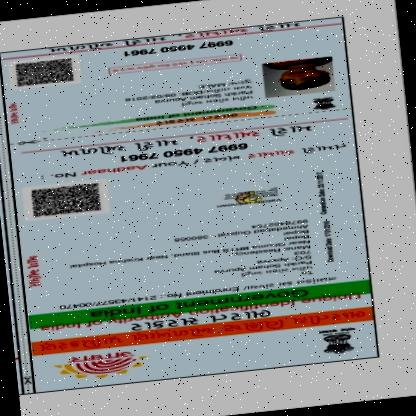aadhaar_card: (0, 11, 384, 402)
